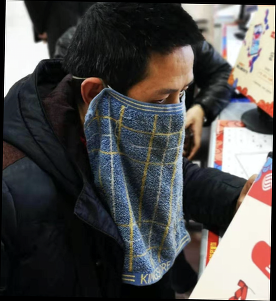with_mask: (103, 77, 194, 170)
